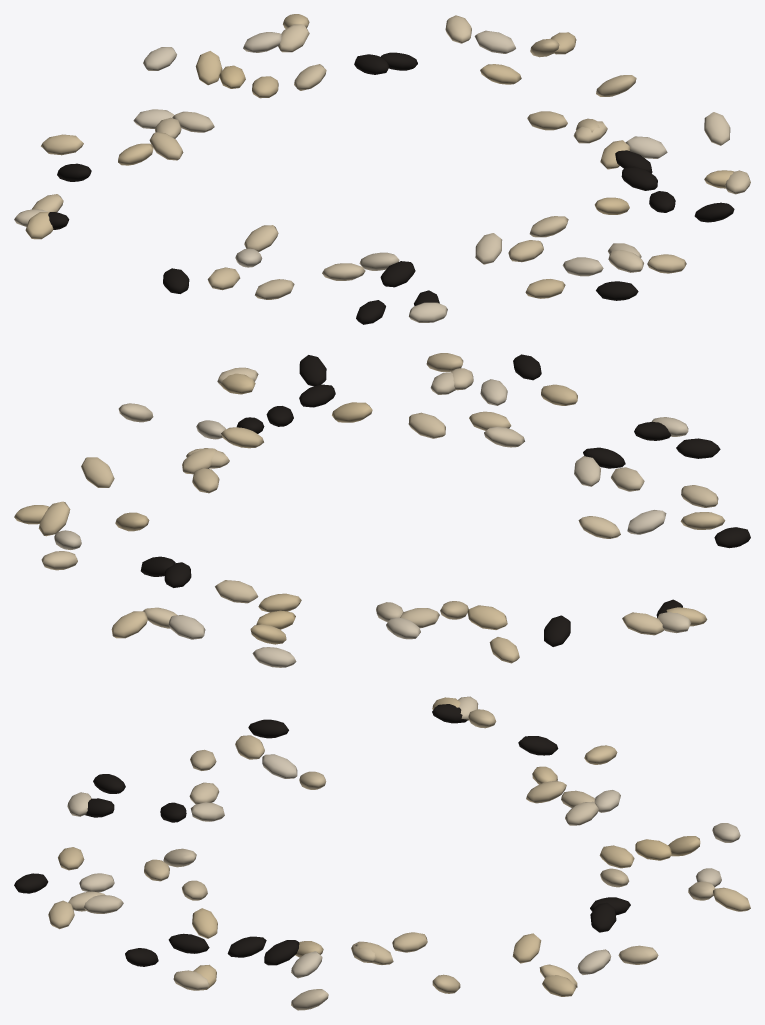
The model's file is sesame.glb.
The picture shows the model from 3 angles, top to bottom: view 1: azimuth 30°, elevation 25°; view 2: azimuth 150°, elevation 25°; view 3: azimuth 270°, elevation 25°; orthographic projection. The views are drawn at different scales.
Visible parts, largest first — view 1: sesame-1; view 2: sesame-1; view 3: sesame-1.
Part boxes in pixels (bbox=[...]): sesame-1: bbox=[14, 14, 750, 324]; sesame-1: bbox=[14, 353, 750, 667]; sesame-1: bbox=[14, 696, 750, 1010].
Bounding box in the file's own units: 0.1834 × 0.00656 × 0.1871.
